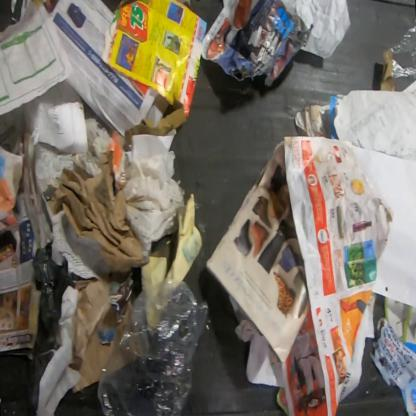cardboard: (67, 274, 131, 394), (125, 105, 189, 146)
soft_plastic: (96, 276, 210, 415), (24, 240, 75, 414), (122, 149, 187, 269), (389, 21, 416, 93), (85, 116, 115, 156)
